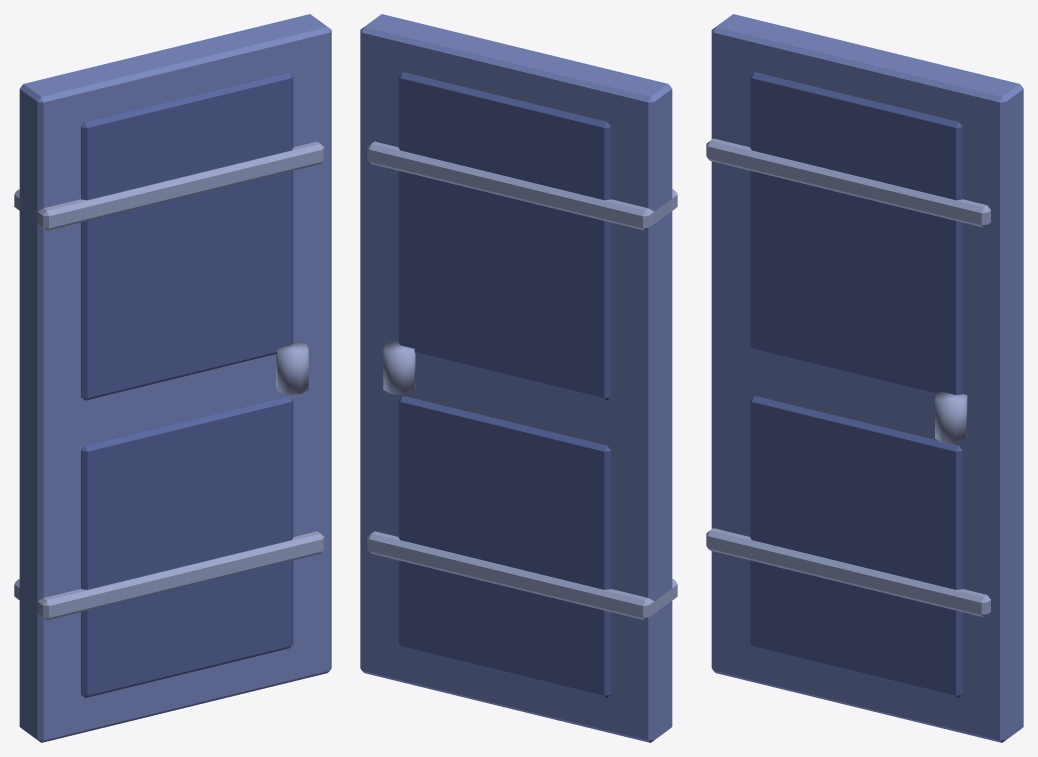
File: blue_dungeon_door_v0.glb
3 views of the same model, side by side, from view 1: azimuth 30°, elevation 25°; view 2: azimuth 150°, elevation 25°; view 3: azimuth 330°, elevation 25° (orthographic).
Visible parts, largest first — view 1: blue_dungeon_door_v0; view 2: blue_dungeon_door_v0; view 3: blue_dungeon_door_v0.
Boxes of the visible parts, bbox=[...] form: blue_dungeon_door_v0: bbox=[14, 14, 331, 742]; blue_dungeon_door_v0: bbox=[360, 14, 677, 742]; blue_dungeon_door_v0: bbox=[706, 14, 1023, 742].
Size of the model in its own units: 0.92 by 1.93 by 0.27.
